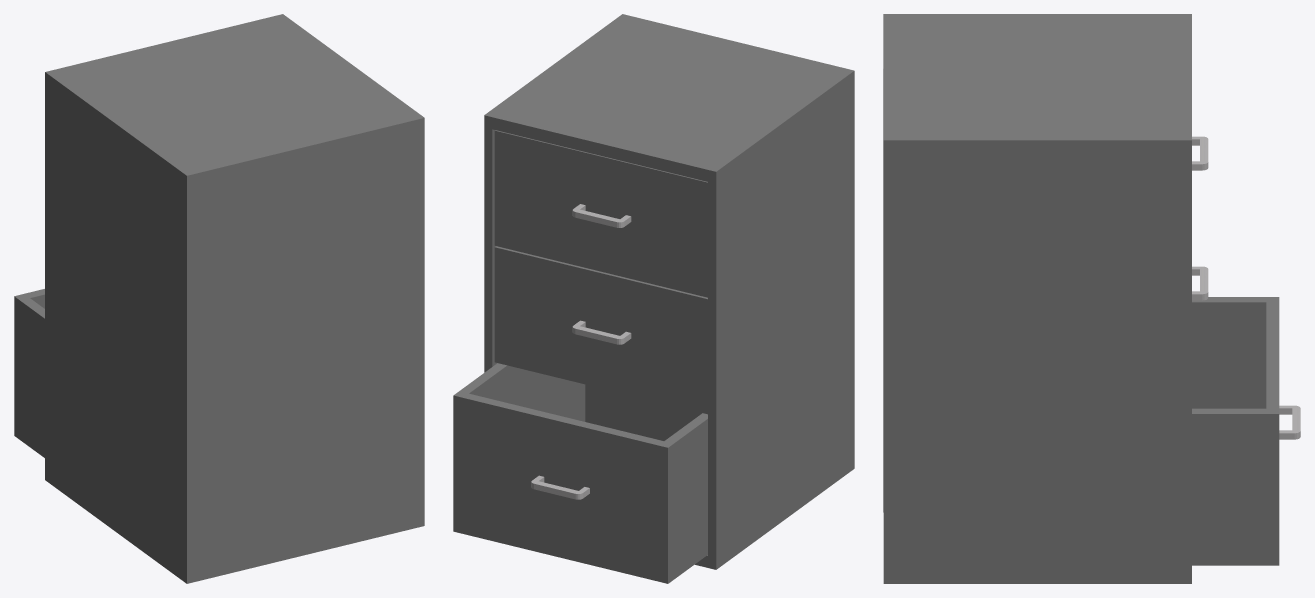
Rendered from meuble_tiroir.glb.
3 renders of one model, left to right at view 1: azimuth 30°, elevation 25°; view 2: azimuth 150°, elevation 25°; view 3: azimuth 270°, elevation 25°, orthographic. The views are drawn at different scales.
Parts seen in each view (by area): view 1: meuble_tiroirs; view 2: meuble_tiroirs; view 3: meuble_tiroirs.
Boxes of the visible parts, x1,y1,x2,y2 form: meuble_tiroirs: [14, 14, 424, 583]; meuble_tiroirs: [453, 14, 854, 583]; meuble_tiroirs: [883, 14, 1300, 583].
Bounding box in the file's own units: 0.6688 × 1.1 × 0.9338.
2 materials, 1 textured.
